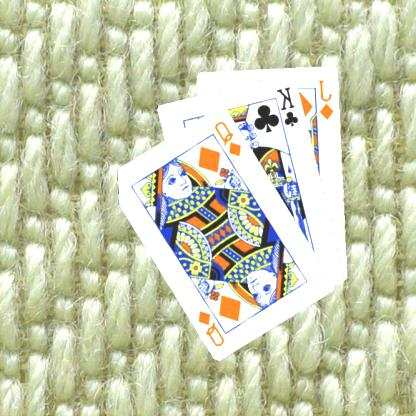JD: (318, 77, 337, 121)
KC: (273, 84, 302, 134)
QD: (213, 117, 245, 158), (197, 307, 228, 348)
